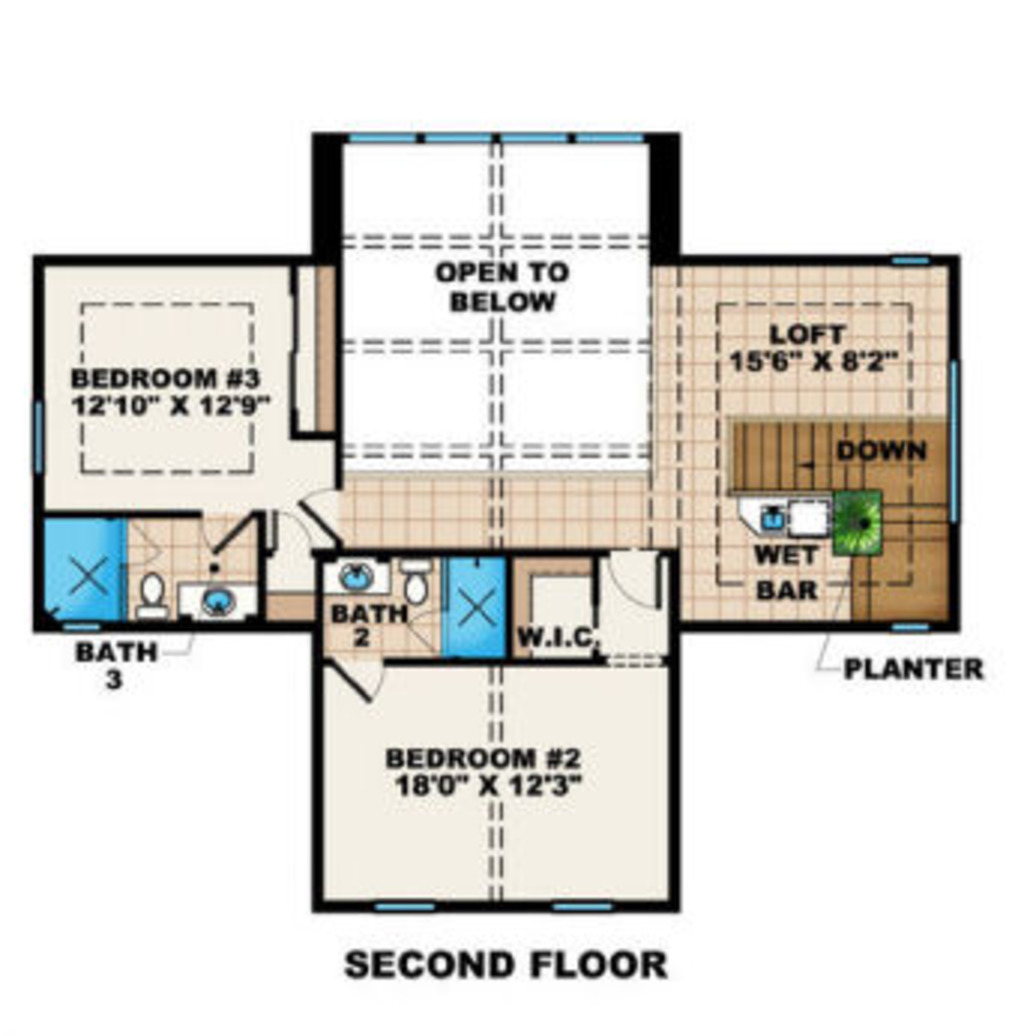door: (603, 547, 687, 611), (322, 645, 400, 700), (109, 506, 172, 572), (190, 500, 264, 551), (295, 480, 351, 545), (268, 510, 316, 553)
large_sink: (392, 555, 442, 613), (127, 569, 179, 619)
sink: (751, 500, 795, 543)
small_sink: (177, 571, 268, 629), (321, 555, 384, 597)
stairs: (701, 403, 961, 492)
window: (347, 122, 648, 148), (935, 358, 979, 535), (879, 587, 956, 637), (24, 393, 59, 472), (879, 242, 937, 271), (553, 895, 621, 919), (368, 897, 450, 916)
